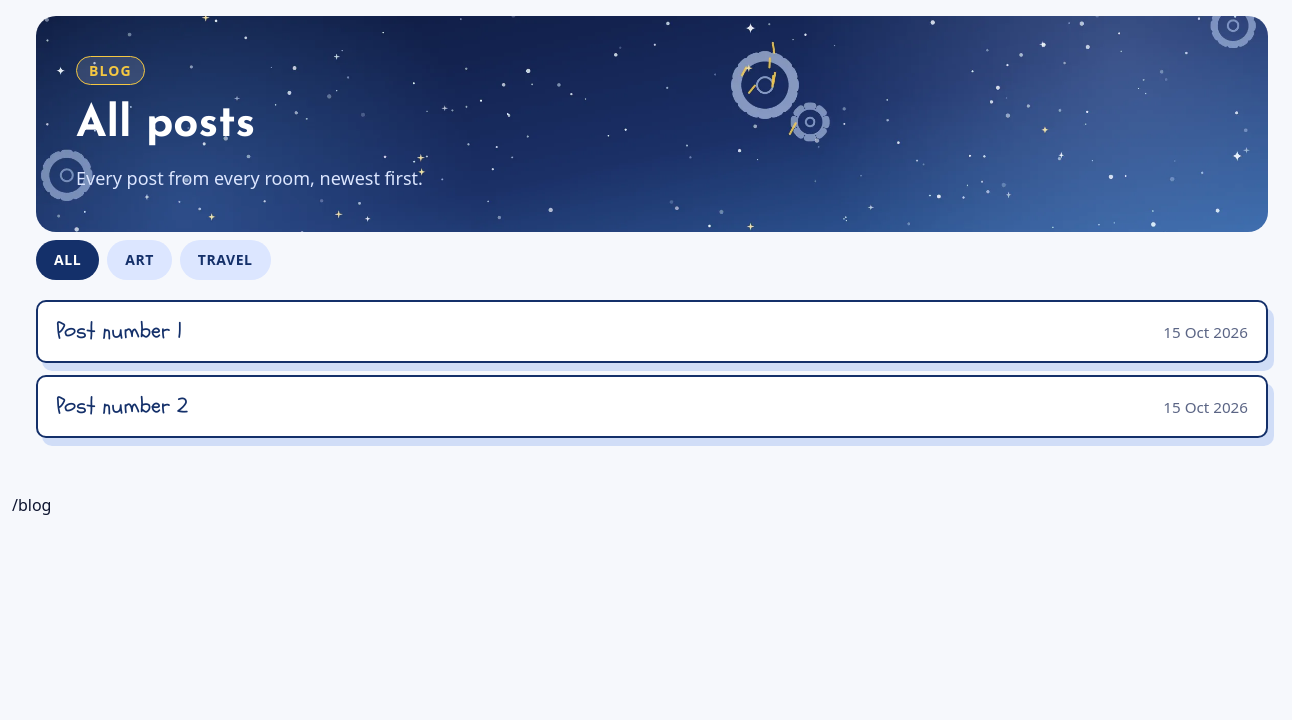
Test: the post list at /blog › filters to a tag when it is chosen, and All brings everything back
Click the button "Travel". click: [225, 260]
box: 180,240 -> 271,280
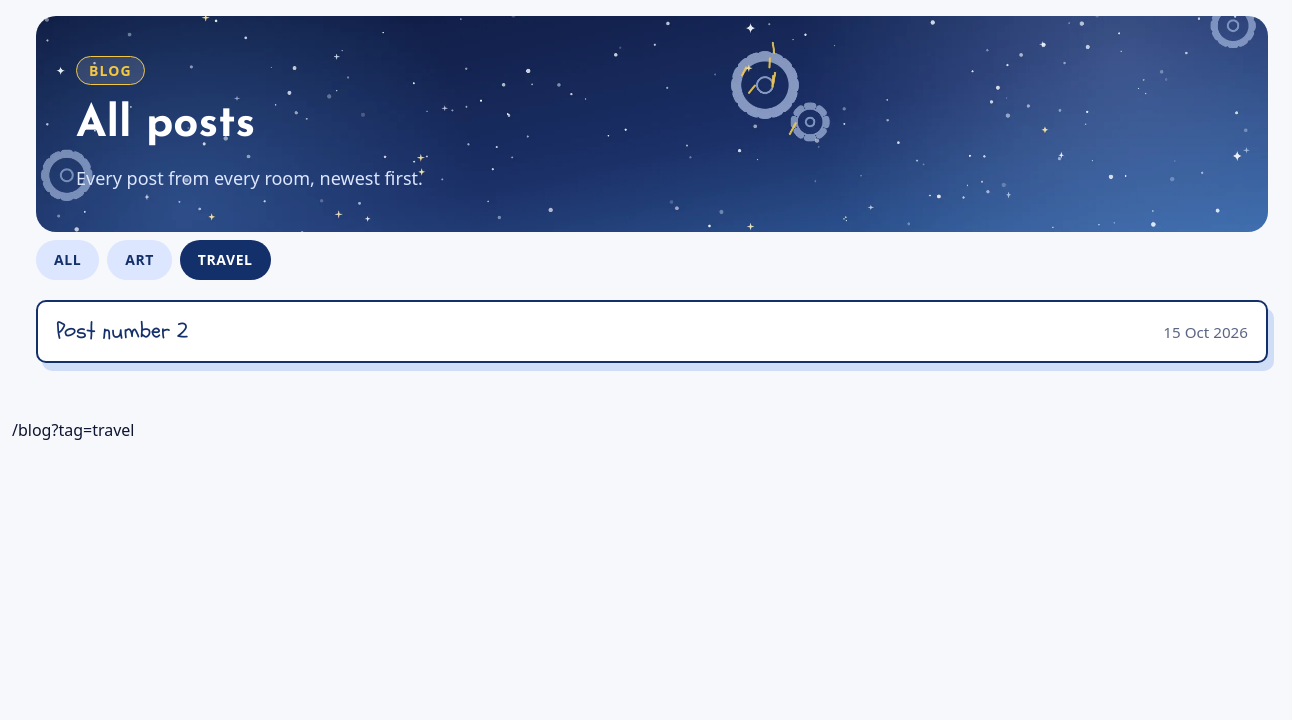
Now the headings read "Post number 2", in this order, box 56,318 -> 188,345
Now the text with test id "where" reads "/blog?tag=travel", box 12,419 -> 134,441
Click the button "All". click: [68, 260]
box: 36,240 -> 99,280
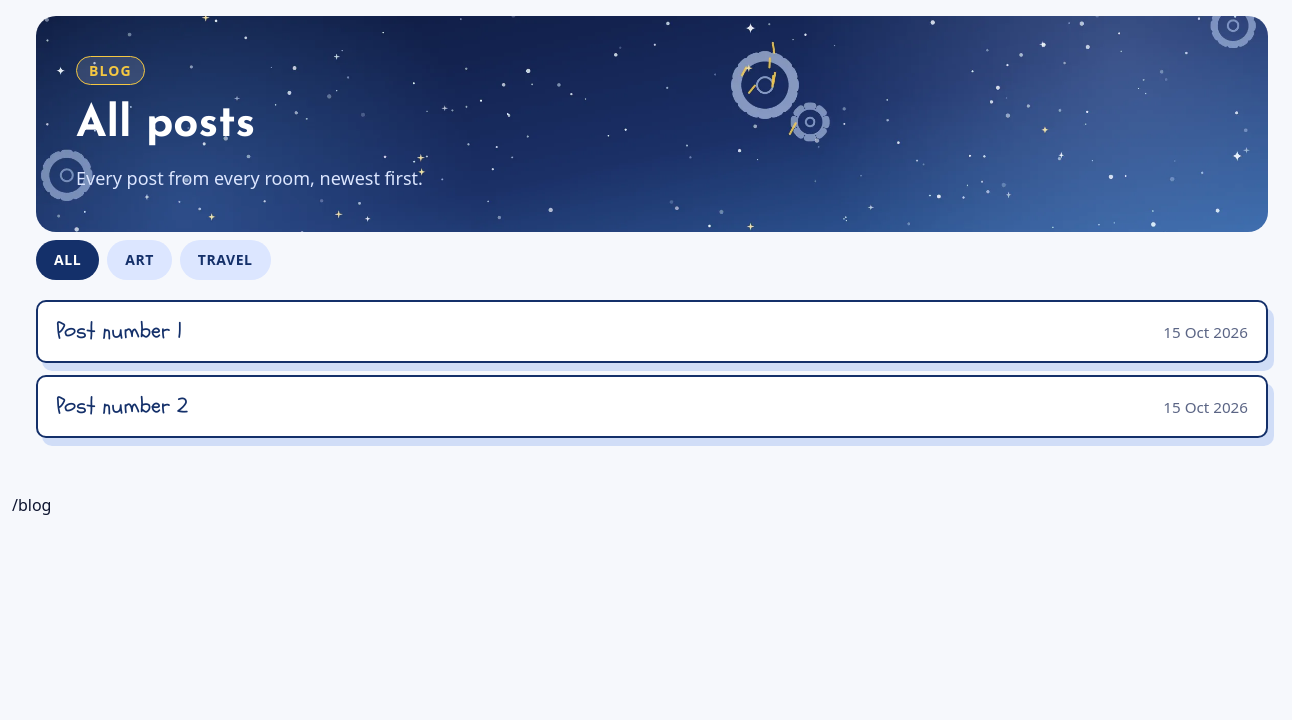
Now the text with test id "where" reads "/blog", box 12,494 -> 52,516
